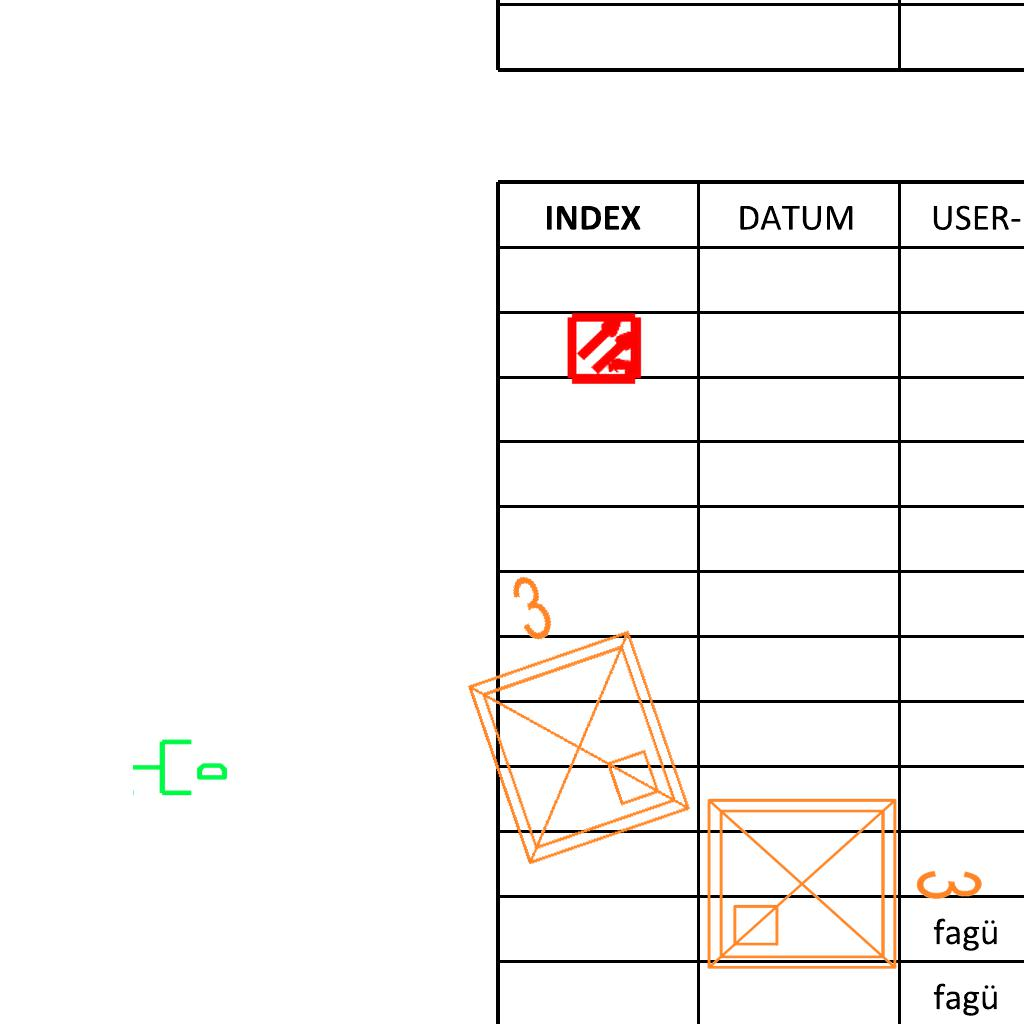Datenanschluss_einfach: (130, 731, 230, 800)
Einbaudownlights_LED_Konferenzraeume: (414, 534, 710, 886), (693, 776, 993, 984)
OT_Multisensormelder_(Kombination_RMO_WMD): (550, 292, 663, 405)
